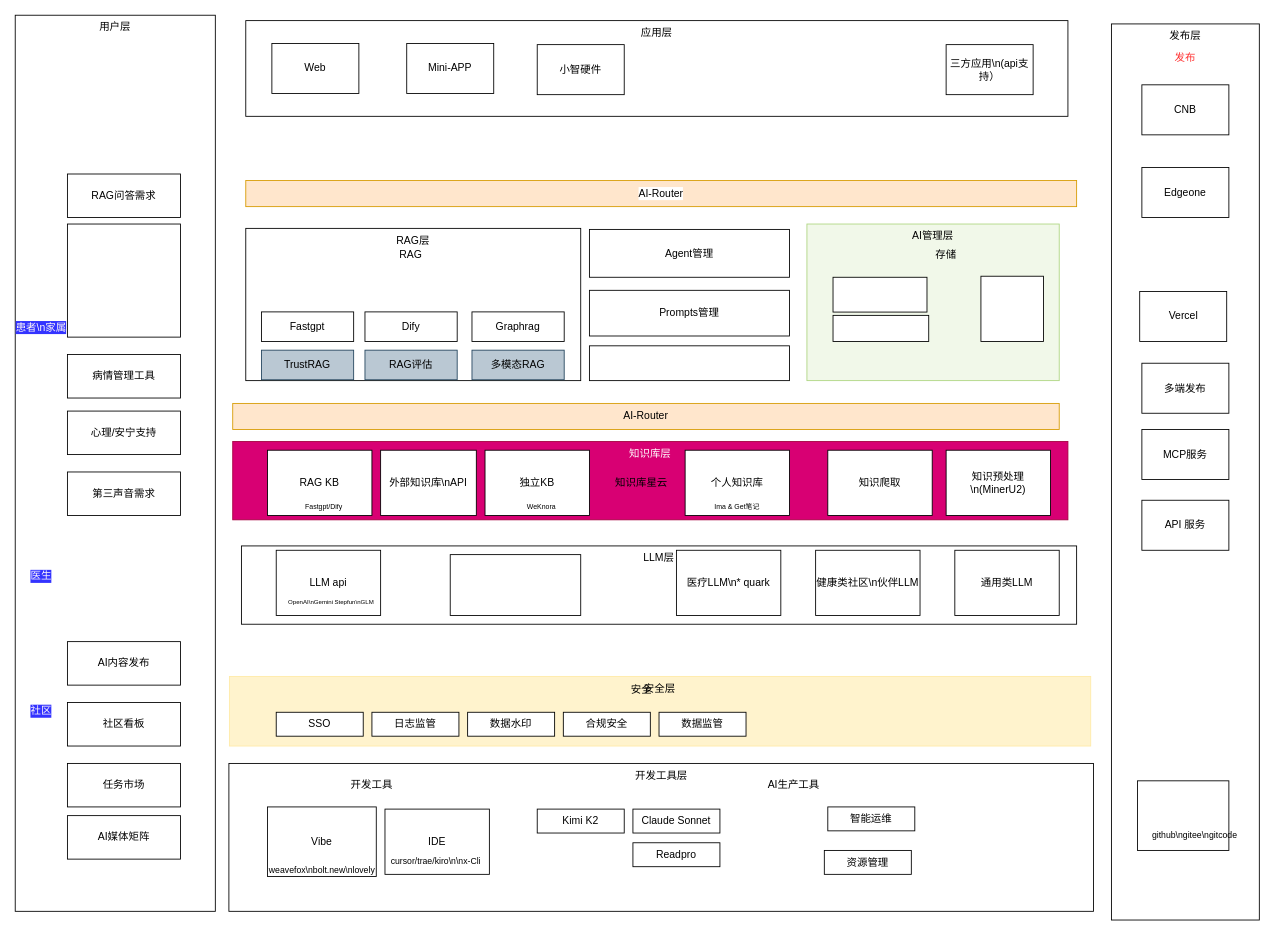
Some shapes in this 1275 by 935 pixel diagram are drawn without their labels. Each missing label, with the centre of its shape:
"Git" goes at point 1183,815.
"MCP" goes at point 689,363.
"Mongodb" goes at point 879,294.
"Redis" goes at point 880,328.
"Supabase" goes at point 1012,308.
"私有微调LLM\n(Medgemma3)" goes at point 515,585.
"长病程自我管理\n碎片场景" goes at point 124,280.
